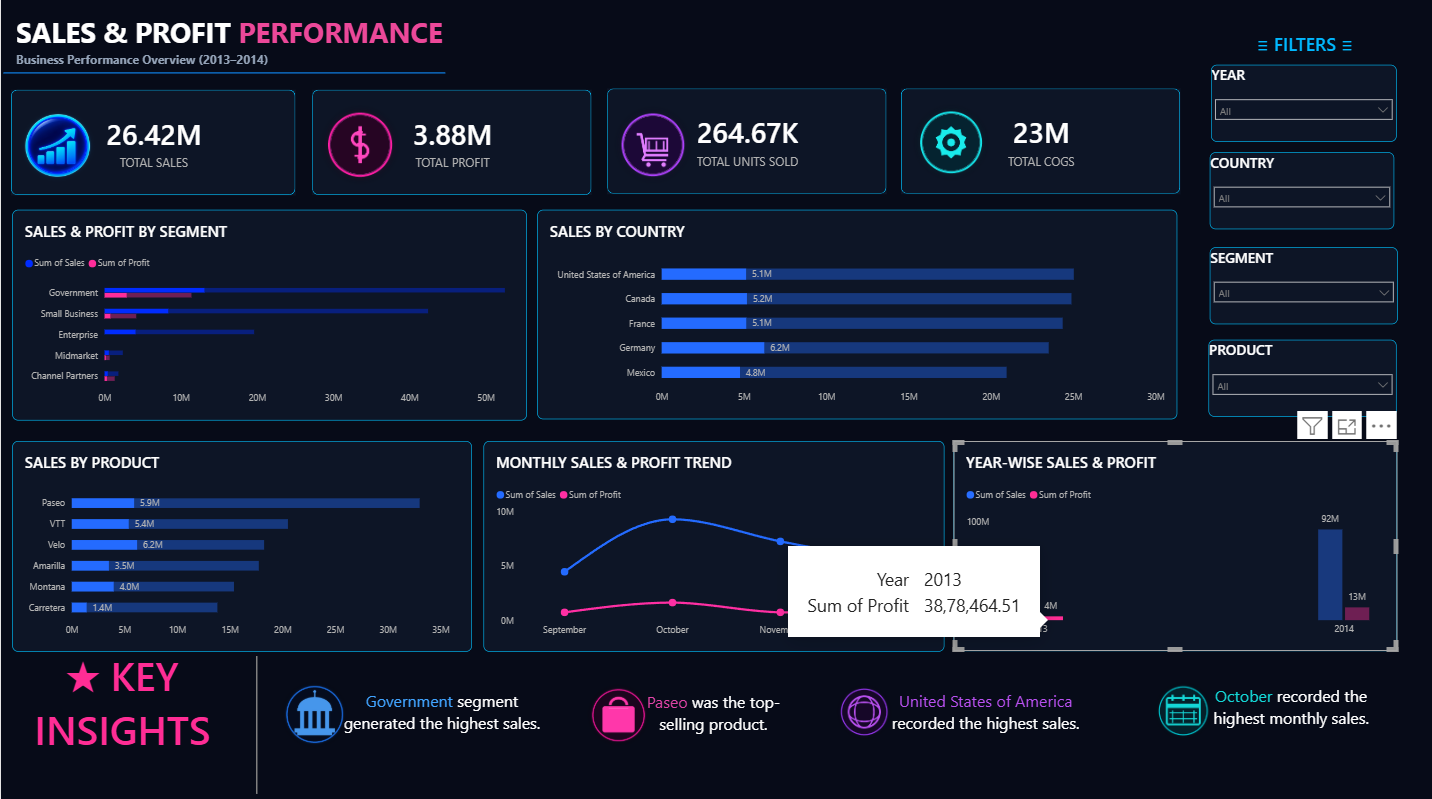

The dashboard page shown, as its layout file describes it:
{"tool":"powerbi","page":{"name":"Sales & Profit Overview","canvas":[1920,1080],"ordinal":0},"visuals":[{"type":"textbox","box":[20.9,22.7,577,162.2],"z":0},{"type":"slicer","title":"YEAR","fields":{"Values":["Week4_Final_Cleaned_Sales_Data.Year"]},"box":[1622.3,92.4,248.8,103.1],"z":0,"group":"g1"},{"type":"shape","box":[3.5,82,592,41.9],"z":1000},{"type":"slicer","title":"COUNTRY","fields":{"Values":["Week4_Final_Cleaned_Sales_Data.Country"]},"box":[1620.9,209.9,247.1,103.1],"z":1000,"group":"g1"},{"type":"cardVisual","fields":{"Data":["Sum(Week4_Final_Cleaned_Sales_Data.Sales)"]},"box":[14,125.6,381.6,141.3],"z":2000},{"type":"slicer","title":"SEGMENT","fields":{"Values":["Week4_Final_Cleaned_Sales_Data.Segment"]},"box":[1619.5,337.5,252,103.1],"z":2000,"group":"g1"},{"type":"cardVisual","fields":{"Data":["Sum(Week4_Final_Cleaned_Sales_Data.Profit)"]},"box":[416.9,125.9,374,141],"z":3000},{"type":"slicer","title":"PRODUCT","fields":{"Values":["Week4_Final_Cleaned_Sales_Data.Product"]},"box":[1618.6,461.2,252,103.1],"z":3000,"group":"g1"},{"type":"cardVisual","fields":{"Data":["Sum(Week4_Final_Cleaned_Sales_Data.Units Sold)"]},"box":[812.1,123.8,374,141.3],"z":4000},{"type":"cardVisual","fields":{"Data":["Sum(Week4_Final_Cleaned_Sales_Data.COGS)"]},"box":[1205.9,123.8,374.3,141.3],"z":5000},{"type":"clusteredBarChart","title":"SALES & PROFIT BY SEGMENT","fields":{"Category":["Week4_Final_Cleaned_Sales_Data.Segment"],"Y":["Sum(Week4_Final_Cleaned_Sales_Data.Sales)","Sum(Week4_Final_Cleaned_Sales_Data.Profit)"]},"box":[15.7,286,689.3,282.6],"z":6000},{"type":"clusteredBarChart","title":"SALES BY COUNTRY","fields":{"Category":["Week4_Final_Cleaned_Sales_Data.Country"],"Y":["Sum(Week4_Final_Cleaned_Sales_Data.Sales)"]},"box":[718.6,286,857.8,280.8],"z":7000},{"type":"clusteredBarChart","title":"SALES BY PRODUCT","fields":{"Category":["Week4_Final_Cleaned_Sales_Data.Product"],"Y":["Sum(Week4_Final_Cleaned_Sales_Data.Sales)"]},"box":[15.7,596.5,616,282.6],"z":8000},{"type":"lineChart","title":"MONTHLY SALES & PROFIT TREND","fields":{"Category":["Week4_Final_Cleaned_Sales_Data.Month Name"],"Y":["Sum(Week4_Final_Cleaned_Sales_Data.Sales)","Sum(Week4_Final_Cleaned_Sales_Data.Profit)"]},"box":[647.1,596.5,617.4,282.6],"z":9000},{"type":"group","id":"g1","title":"Group 1","box":[1618.6,92.4,252.9,472],"z":10000},{"type":"textbox","box":[1657,48.8,181.4,43.3],"z":11000},{"type":"clusteredColumnChart","title":"YEAR-WISE SALES & PROFIT","fields":{"Category":["Week4_Final_Cleaned_Sales_Data.Year"],"Y":["Sum(Week4_Final_Cleaned_Sales_Data.Sales)","Sum(Week4_Final_Cleaned_Sales_Data.Profit)"]},"box":[1276.7,596.5,594.8,281.9],"z":12000},{"type":"textbox","box":[10.5,873.8,305.2,200.6],"z":13000},{"type":"image","box":[6.3,113.4,139.2,174.4],"z":13001},{"type":"image","box":[427.3,116.9,108.1,164],"z":13002},{"type":"image","box":[820.8,112.3,105.7,174.4],"z":13003},{"type":"image","box":[1220.9,108.5,104.3,174.4],"z":13004},{"type":"shape","box":[205,885,276.7,185],"z":13005},{"type":"textbox","box":[446.2,930,290.6,150],"z":13006},{"type":"image","box":[363.8,916,113.7,93.1],"z":13007},{"type":"textbox","box":[850.5,931.7,207.6,64.2],"z":13008},{"type":"image","box":[782.4,920.9,90.7,85.1],"z":13009},{"type":"textbox","box":[1186,930.4,266.9,81.6],"z":13010},{"type":"image","box":[1115.2,921.3,82.3,76],"z":13011},{"type":"textbox","box":[1618.3,923.7,221.2,83],"z":13012},{"type":"image","box":[1541.5,918.1,86.5,80.2],"z":13013}]}

Visuals, with their boxes in screenshot pixels (x1, y1, x2, y2), scaled from the page's 1920x1080 canvas onto the 1432x799 screenshot:
textbox: BBox(16, 17, 446, 137)
"YEAR" slicer: BBox(1210, 68, 1396, 145)
shape: BBox(3, 61, 444, 92)
"COUNTRY" slicer: BBox(1209, 155, 1393, 232)
cardVisual - Sum(Week4_Final_Cleaned_Sales_Data.Sales): BBox(10, 93, 295, 197)
"SEGMENT" slicer: BBox(1208, 250, 1396, 326)
cardVisual - Sum(Week4_Final_Cleaned_Sales_Data.Profit): BBox(311, 93, 590, 197)
"PRODUCT" slicer: BBox(1207, 341, 1395, 417)
cardVisual - Sum(Week4_Final_Cleaned_Sales_Data.Units Sold): BBox(606, 92, 885, 196)
cardVisual - Sum(Week4_Final_Cleaned_Sales_Data.COGS): BBox(899, 92, 1179, 196)
"SALES & PROFIT BY SEGMENT" clusteredBarChart: BBox(12, 212, 526, 421)
"SALES BY COUNTRY" clusteredBarChart: BBox(536, 212, 1176, 419)
"SALES BY PRODUCT" clusteredBarChart: BBox(12, 441, 471, 650)
"MONTHLY SALES & PROFIT TREND" lineChart: BBox(483, 441, 943, 650)
"Group 1" group: BBox(1207, 68, 1396, 418)
textbox: BBox(1236, 36, 1371, 68)
"YEAR-WISE SALES & PROFIT" clusteredColumnChart: BBox(952, 441, 1396, 650)
textbox: BBox(8, 646, 235, 795)
image: BBox(5, 84, 109, 213)
image: BBox(319, 86, 399, 208)
image: BBox(612, 83, 691, 212)
image: BBox(911, 80, 988, 209)
shape: BBox(153, 655, 359, 792)
textbox: BBox(333, 688, 550, 798)
image: BBox(271, 678, 356, 747)
textbox: BBox(634, 689, 789, 737)
image: BBox(584, 681, 651, 744)
textbox: BBox(885, 688, 1084, 749)
image: BBox(832, 682, 893, 738)
textbox: BBox(1207, 683, 1372, 745)
image: BBox(1150, 679, 1214, 739)
